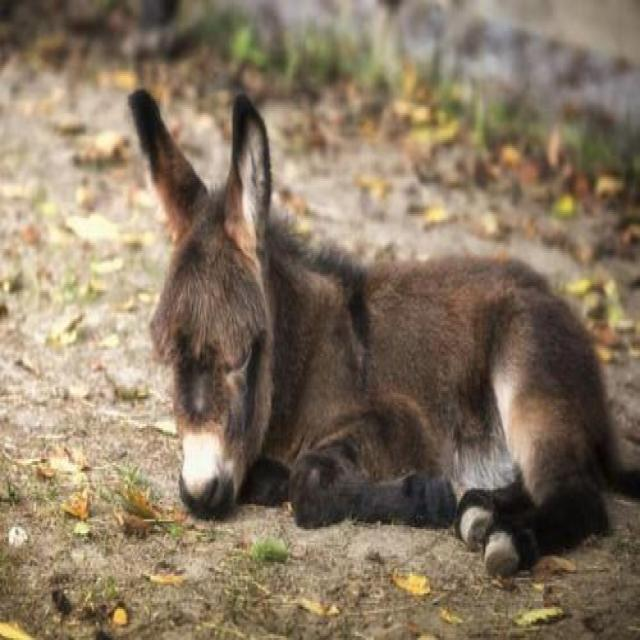Donkey: (128, 90, 616, 574)
